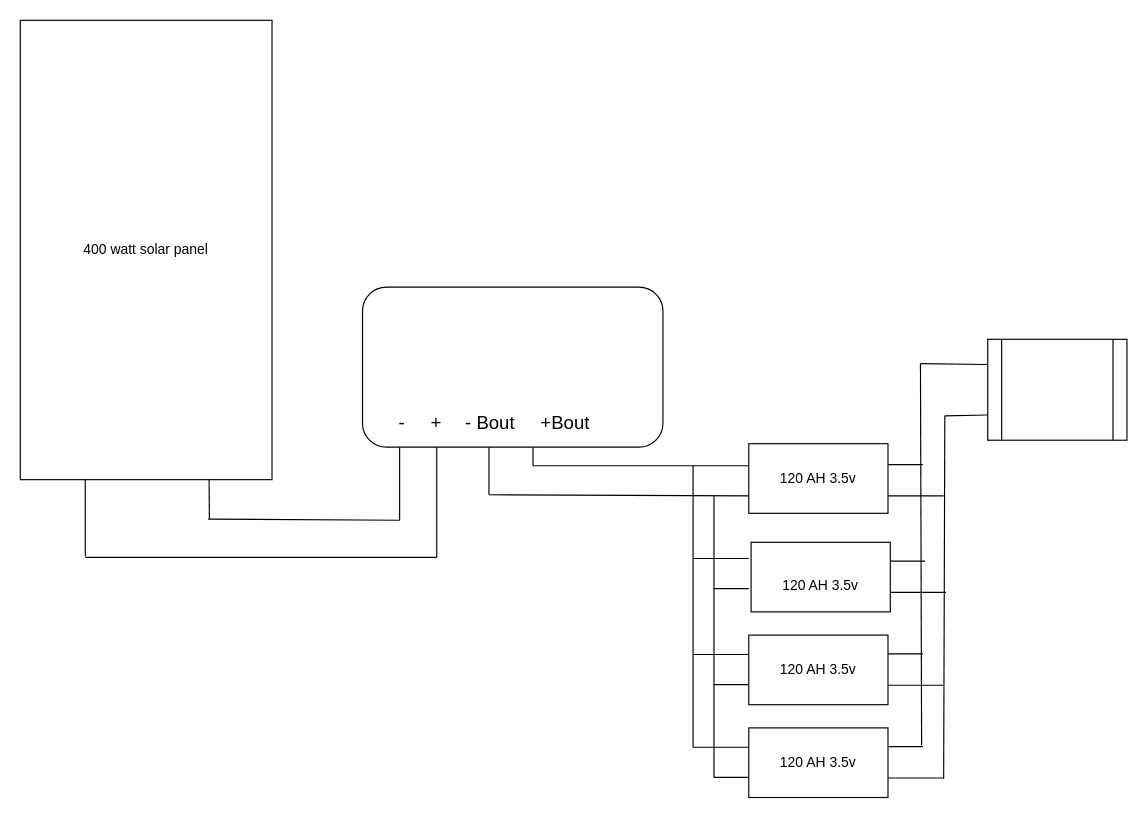
Some shapes in this 1147 by 818 pixel diagram are drawn without their labels. Each missing label, with the box of its shape:
Solar Charge Controller: (361, 286, 663, 447)
Voltage Sensor: (987, 338, 1127, 440)
